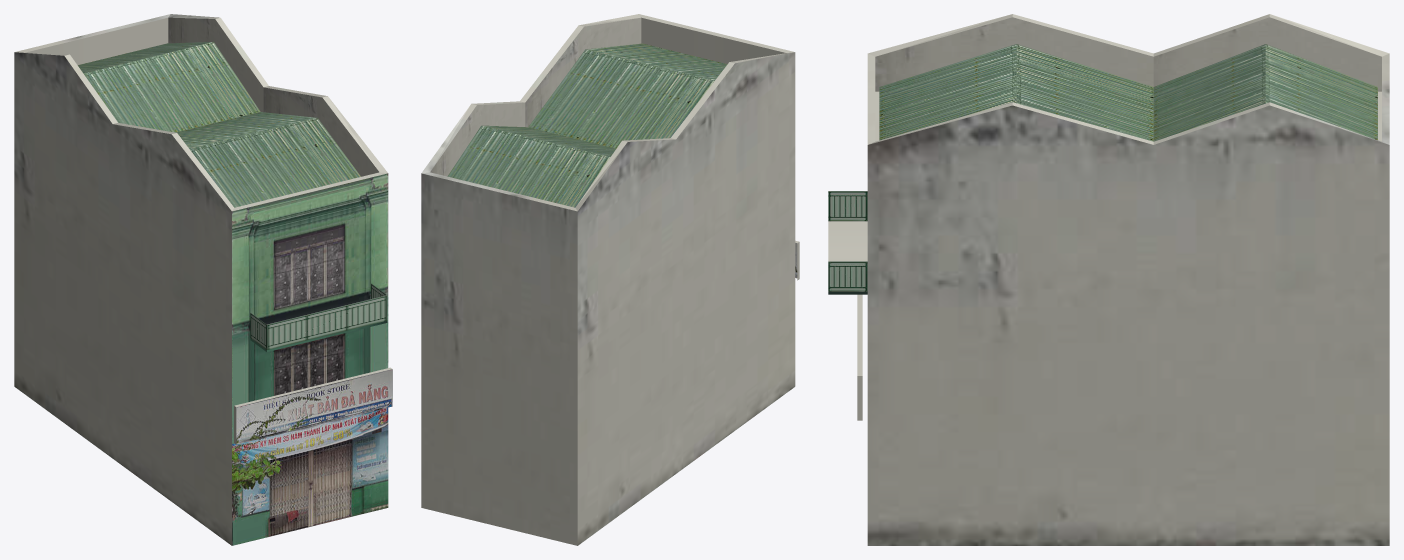
The picture shows the model from 3 angles, left to right: view 1: azimuth 30°, elevation 25°; view 2: azimuth 150°, elevation 25°; view 3: azimuth 270°, elevation 25°; orthographic projection. The views are drawn at different scales.
Parts seen in each view (by area): view 1: 5cda29b928a55ef7c0301e07.001; view 2: 5cda29b928a55ef7c0301e07.001; view 3: 5cda29b928a55ef7c0301e07.001.
Boxes of the visible parts, box(x1,y1,x2,y2) form: 5cda29b928a55ef7c0301e07.001: box(14, 14, 392, 545); 5cda29b928a55ef7c0301e07.001: box(421, 14, 799, 545); 5cda29b928a55ef7c0301e07.001: box(828, 14, 1389, 545).
Bounding box in the file's own units: 5.63 × 12.63 × 14.59.
Materials: 1 (1 with a texture image).
